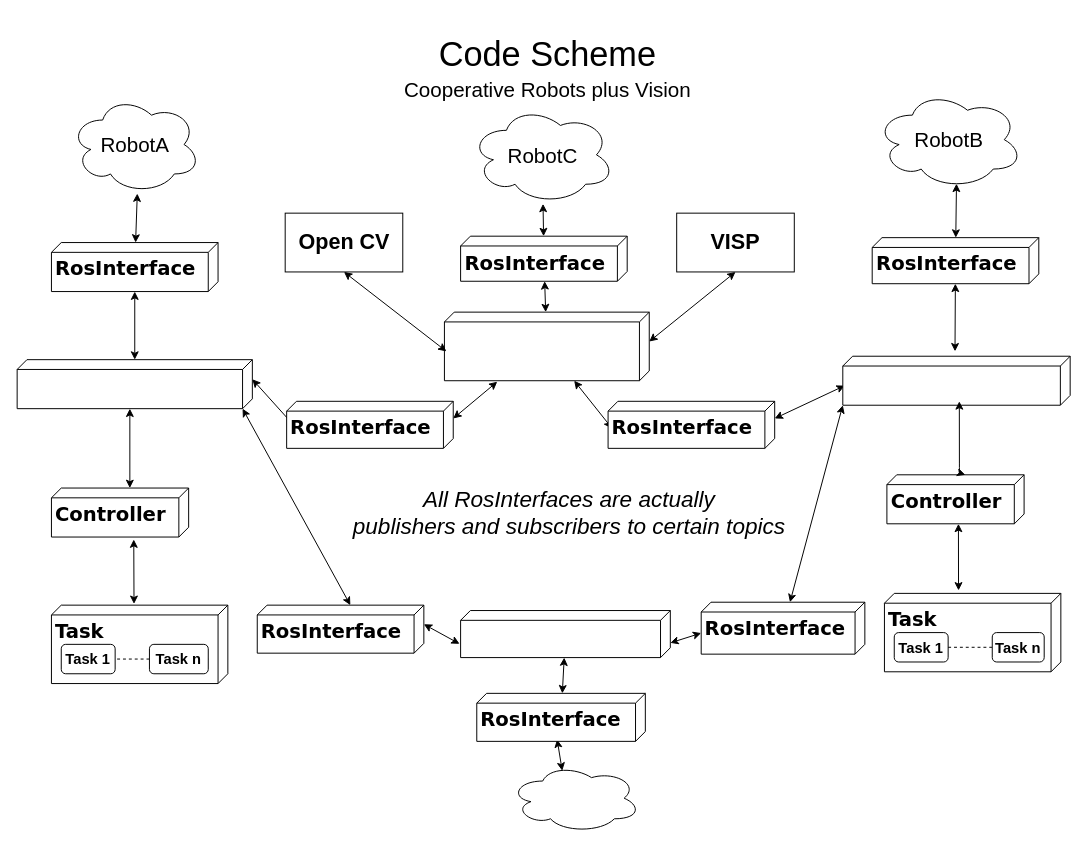
Image size: 1088x850. Some labels were removed from this diagram. Here are the shapes that lost their labels. From the top down, the centre of each, then its label:
(x=546, y=346): Mission Manager Vision
(x=134, y=384): Mission Manager A
(x=956, y=380): Mission Manager B
(x=565, y=634): COORDINATOR
(x=574, y=798): World info
